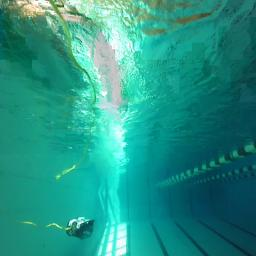back: (66, 216, 95, 239), (66, 216, 95, 237)
